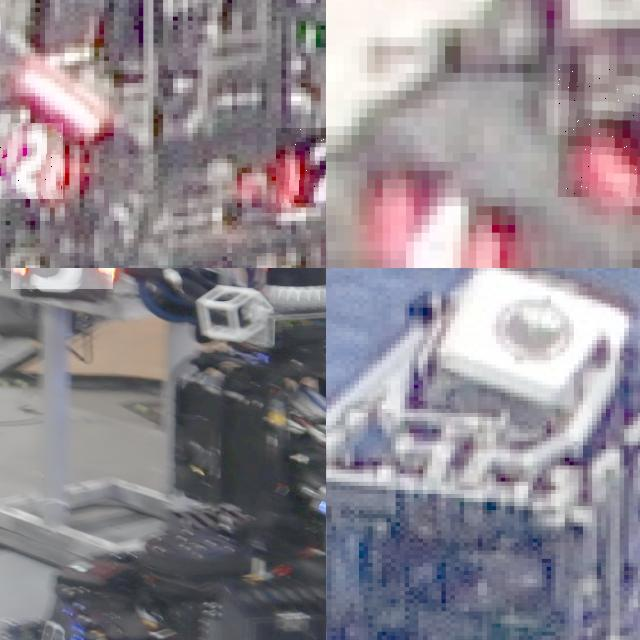Bs: (30, 611, 80, 640)
R2: (0, 123, 64, 199), (276, 127, 326, 203)
R3: (11, 268, 112, 289)
R4: (331, 161, 511, 268), (558, 63, 640, 197)
